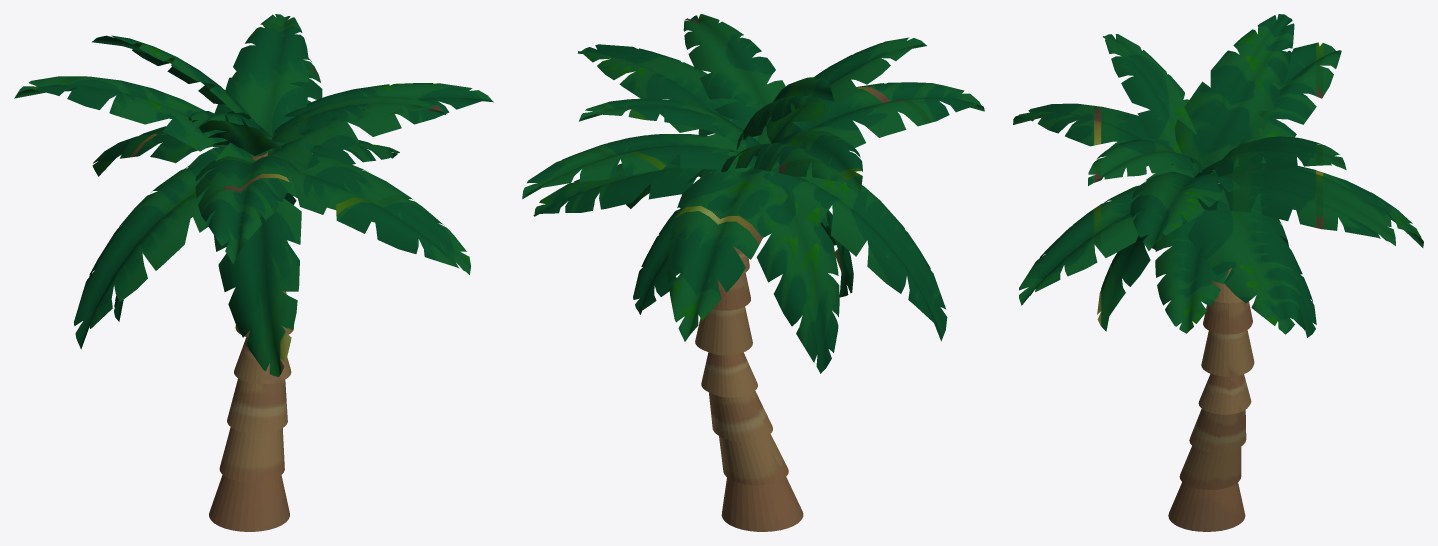
File: palm tree.fbx
The picture shows the model from 3 angles, left to right: view 1: azimuth 30°, elevation 25°; view 2: azimuth 150°, elevation 25°; view 3: azimuth 270°, elevation 25°; orthographic projection. The views are drawn at different scales.
Parts seen in each view (by area): view 1: leafpalm, trunkpalm; view 2: leafpalm, trunkpalm; view 3: leafpalm, trunkpalm.
Boxes of the visible parts, bbox=[...] form: leafpalm: bbox=[14, 14, 493, 376]; trunkpalm: bbox=[209, 151, 293, 531]; leafpalm: bbox=[522, 14, 984, 373]; trunkpalm: bbox=[695, 147, 803, 531]; leafpalm: bbox=[1013, 14, 1423, 337]; trunkpalm: bbox=[1168, 183, 1254, 531].
Bounding box in the file's own units: 1098 × 1289 × 1059.
Materials: 2 (2 with a texture image).
